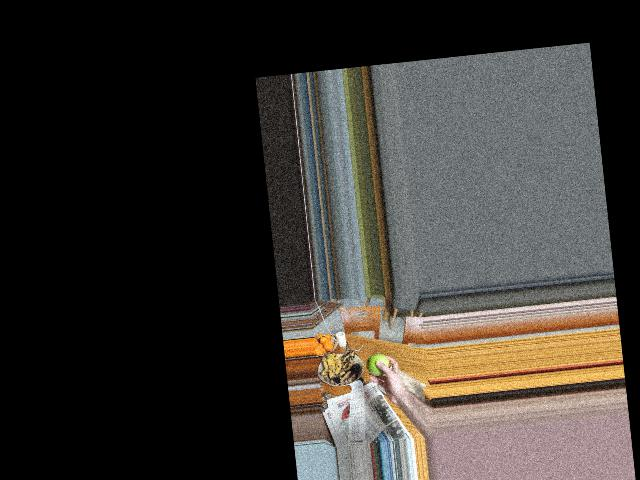apple: (365, 349, 390, 379)
